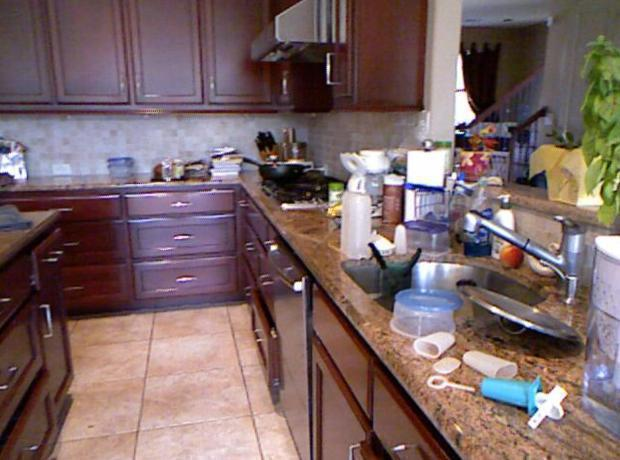Lavaplatos: (342, 199, 599, 351)
